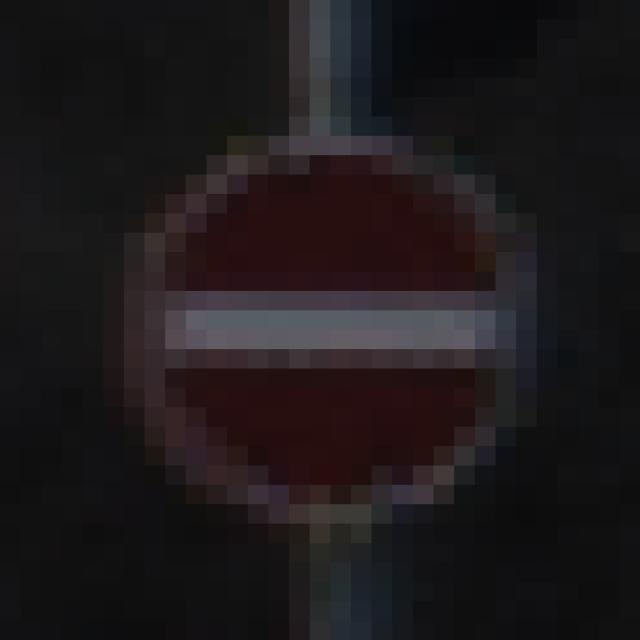No Entry: (104, 117, 538, 544)
